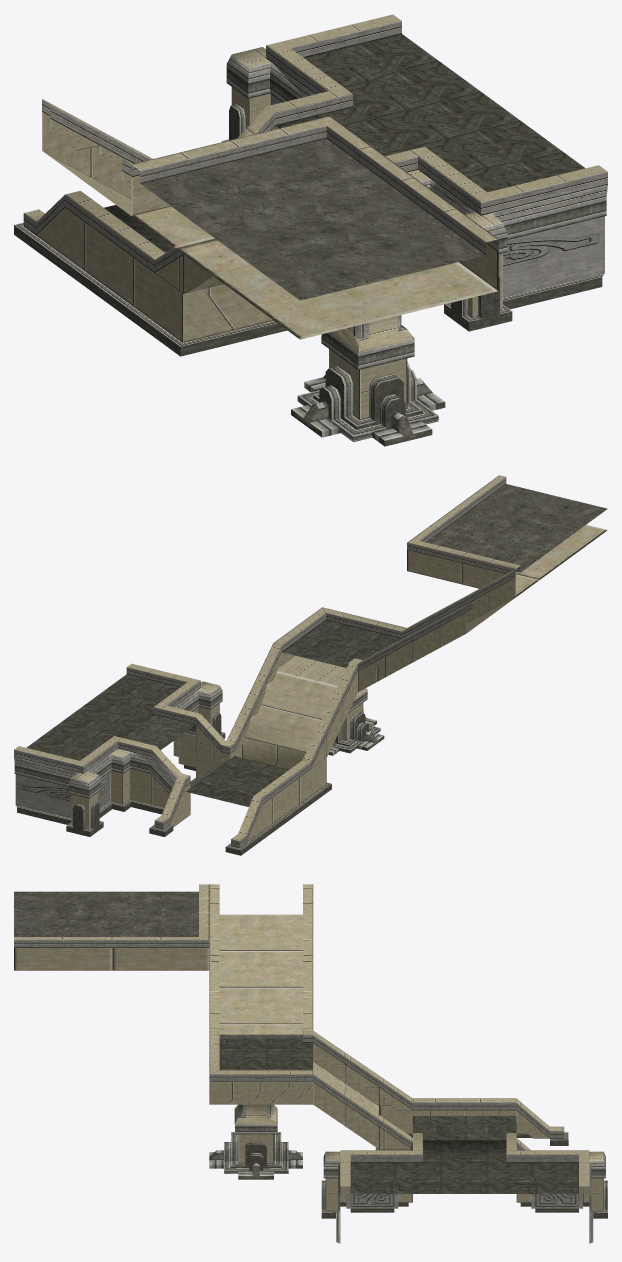
The model's file is DWARF_PALACE_FORGE_STAIRSA.fbx.
3 renders of one model, top to bottom at view 1: azimuth 30°, elevation 25°; view 2: azimuth 150°, elevation 25°; view 3: azimuth 270°, elevation 25°, orthographic. The views are drawn at different scales.
Visible parts, largest first — view 1: DWARF_PALACE_FORGE_STAIRSA; view 2: DWARF_PALACE_FORGE_STAIRSA; view 3: DWARF_PALACE_FORGE_STAIRSA.
Boxes of the visible parts, bbox=[...] form: DWARF_PALACE_FORGE_STAIRSA: bbox=[14, 14, 607, 446]; DWARF_PALACE_FORGE_STAIRSA: bbox=[14, 475, 607, 855]; DWARF_PALACE_FORGE_STAIRSA: bbox=[14, 884, 607, 1243].
Size of the model in its own units: 190244 by 106026 by 286159.
10 materials, 10 textured.
